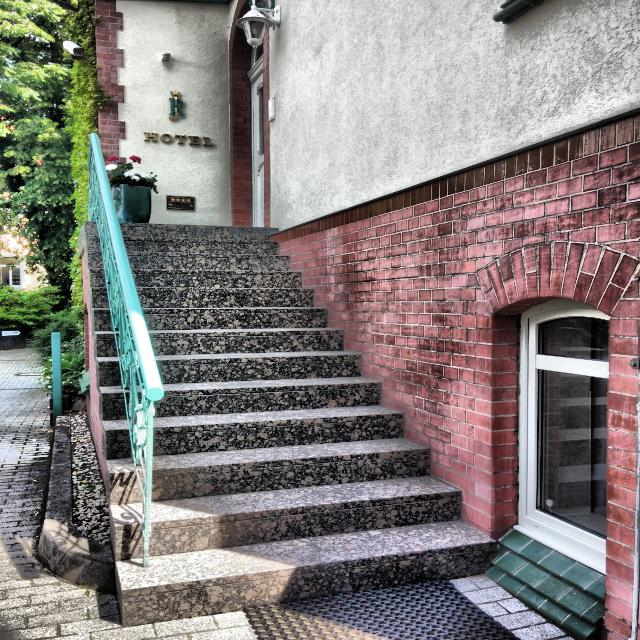escada: (82, 222, 493, 628)
